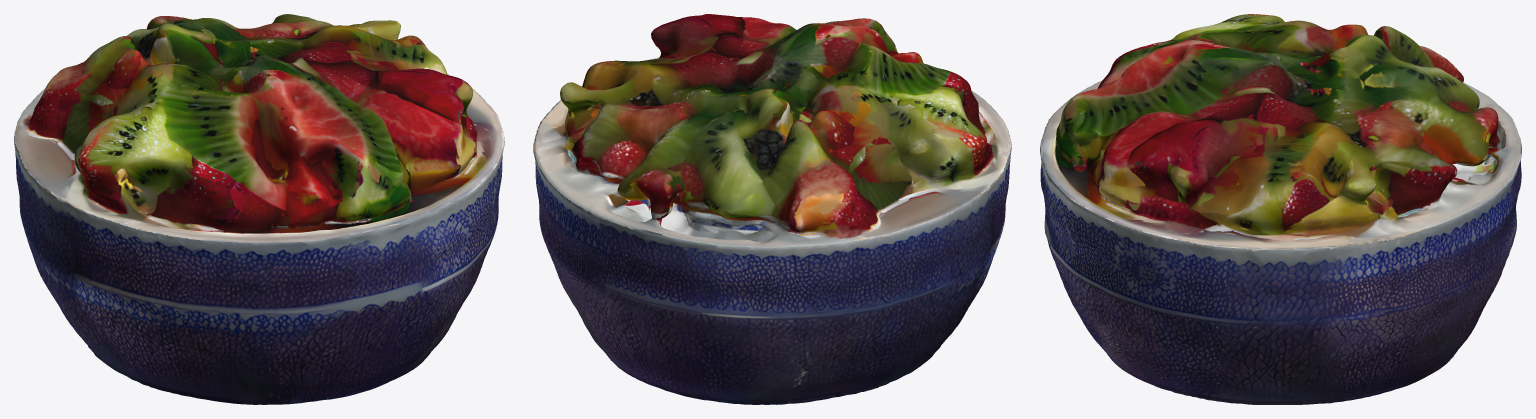
Rendered from fruit_salad.glb.
3 renders of one model, left to right at view 1: azimuth 30°, elevation 25°; view 2: azimuth 150°, elevation 25°; view 3: azimuth 270°, elevation 25°, orthographic. The views are drawn at different scales.
Parts seen in each view (by area): view 1: model_0; view 2: model_0; view 3: model_0.
Part boxes in pixels (x1,y1,x2,y2): model_0: [14, 14, 504, 404]; model_0: [533, 14, 1011, 404]; model_0: [1040, 14, 1521, 404].
Bounding box in the file's own units: 0.2804 × 0.1803 × 0.2803.
1 material, 1 textured.
